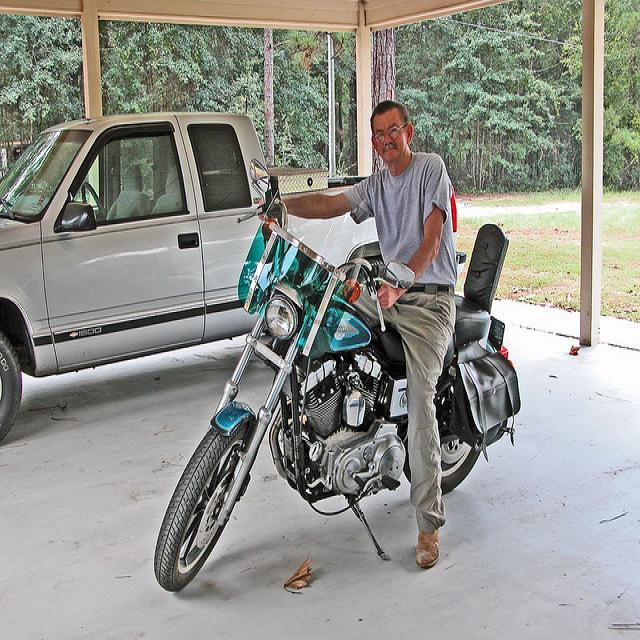motor: (151, 158, 517, 598)
